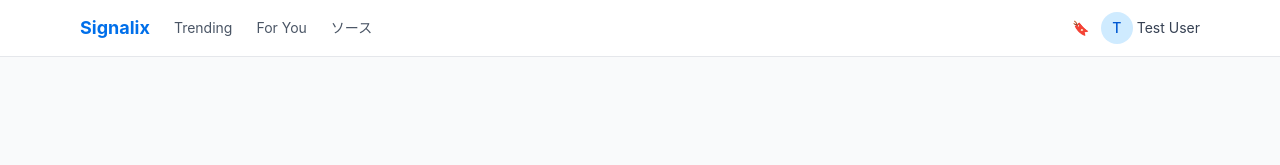
Test: Navbar › ユーザーメニューをクリックで開く
Step 1. Click the button with aria-label "ユーザーメニュー" → (1150,28), box [1101,12,1200,44]
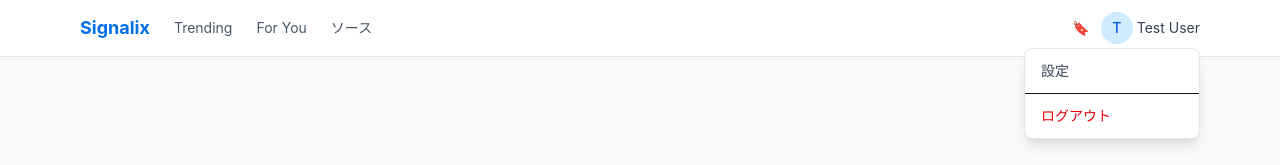
Expected: the link "設定" is shown, [1041,62,1069,79]
Expected: the button "ログアウト" is shown, [1025,98,1199,134]
